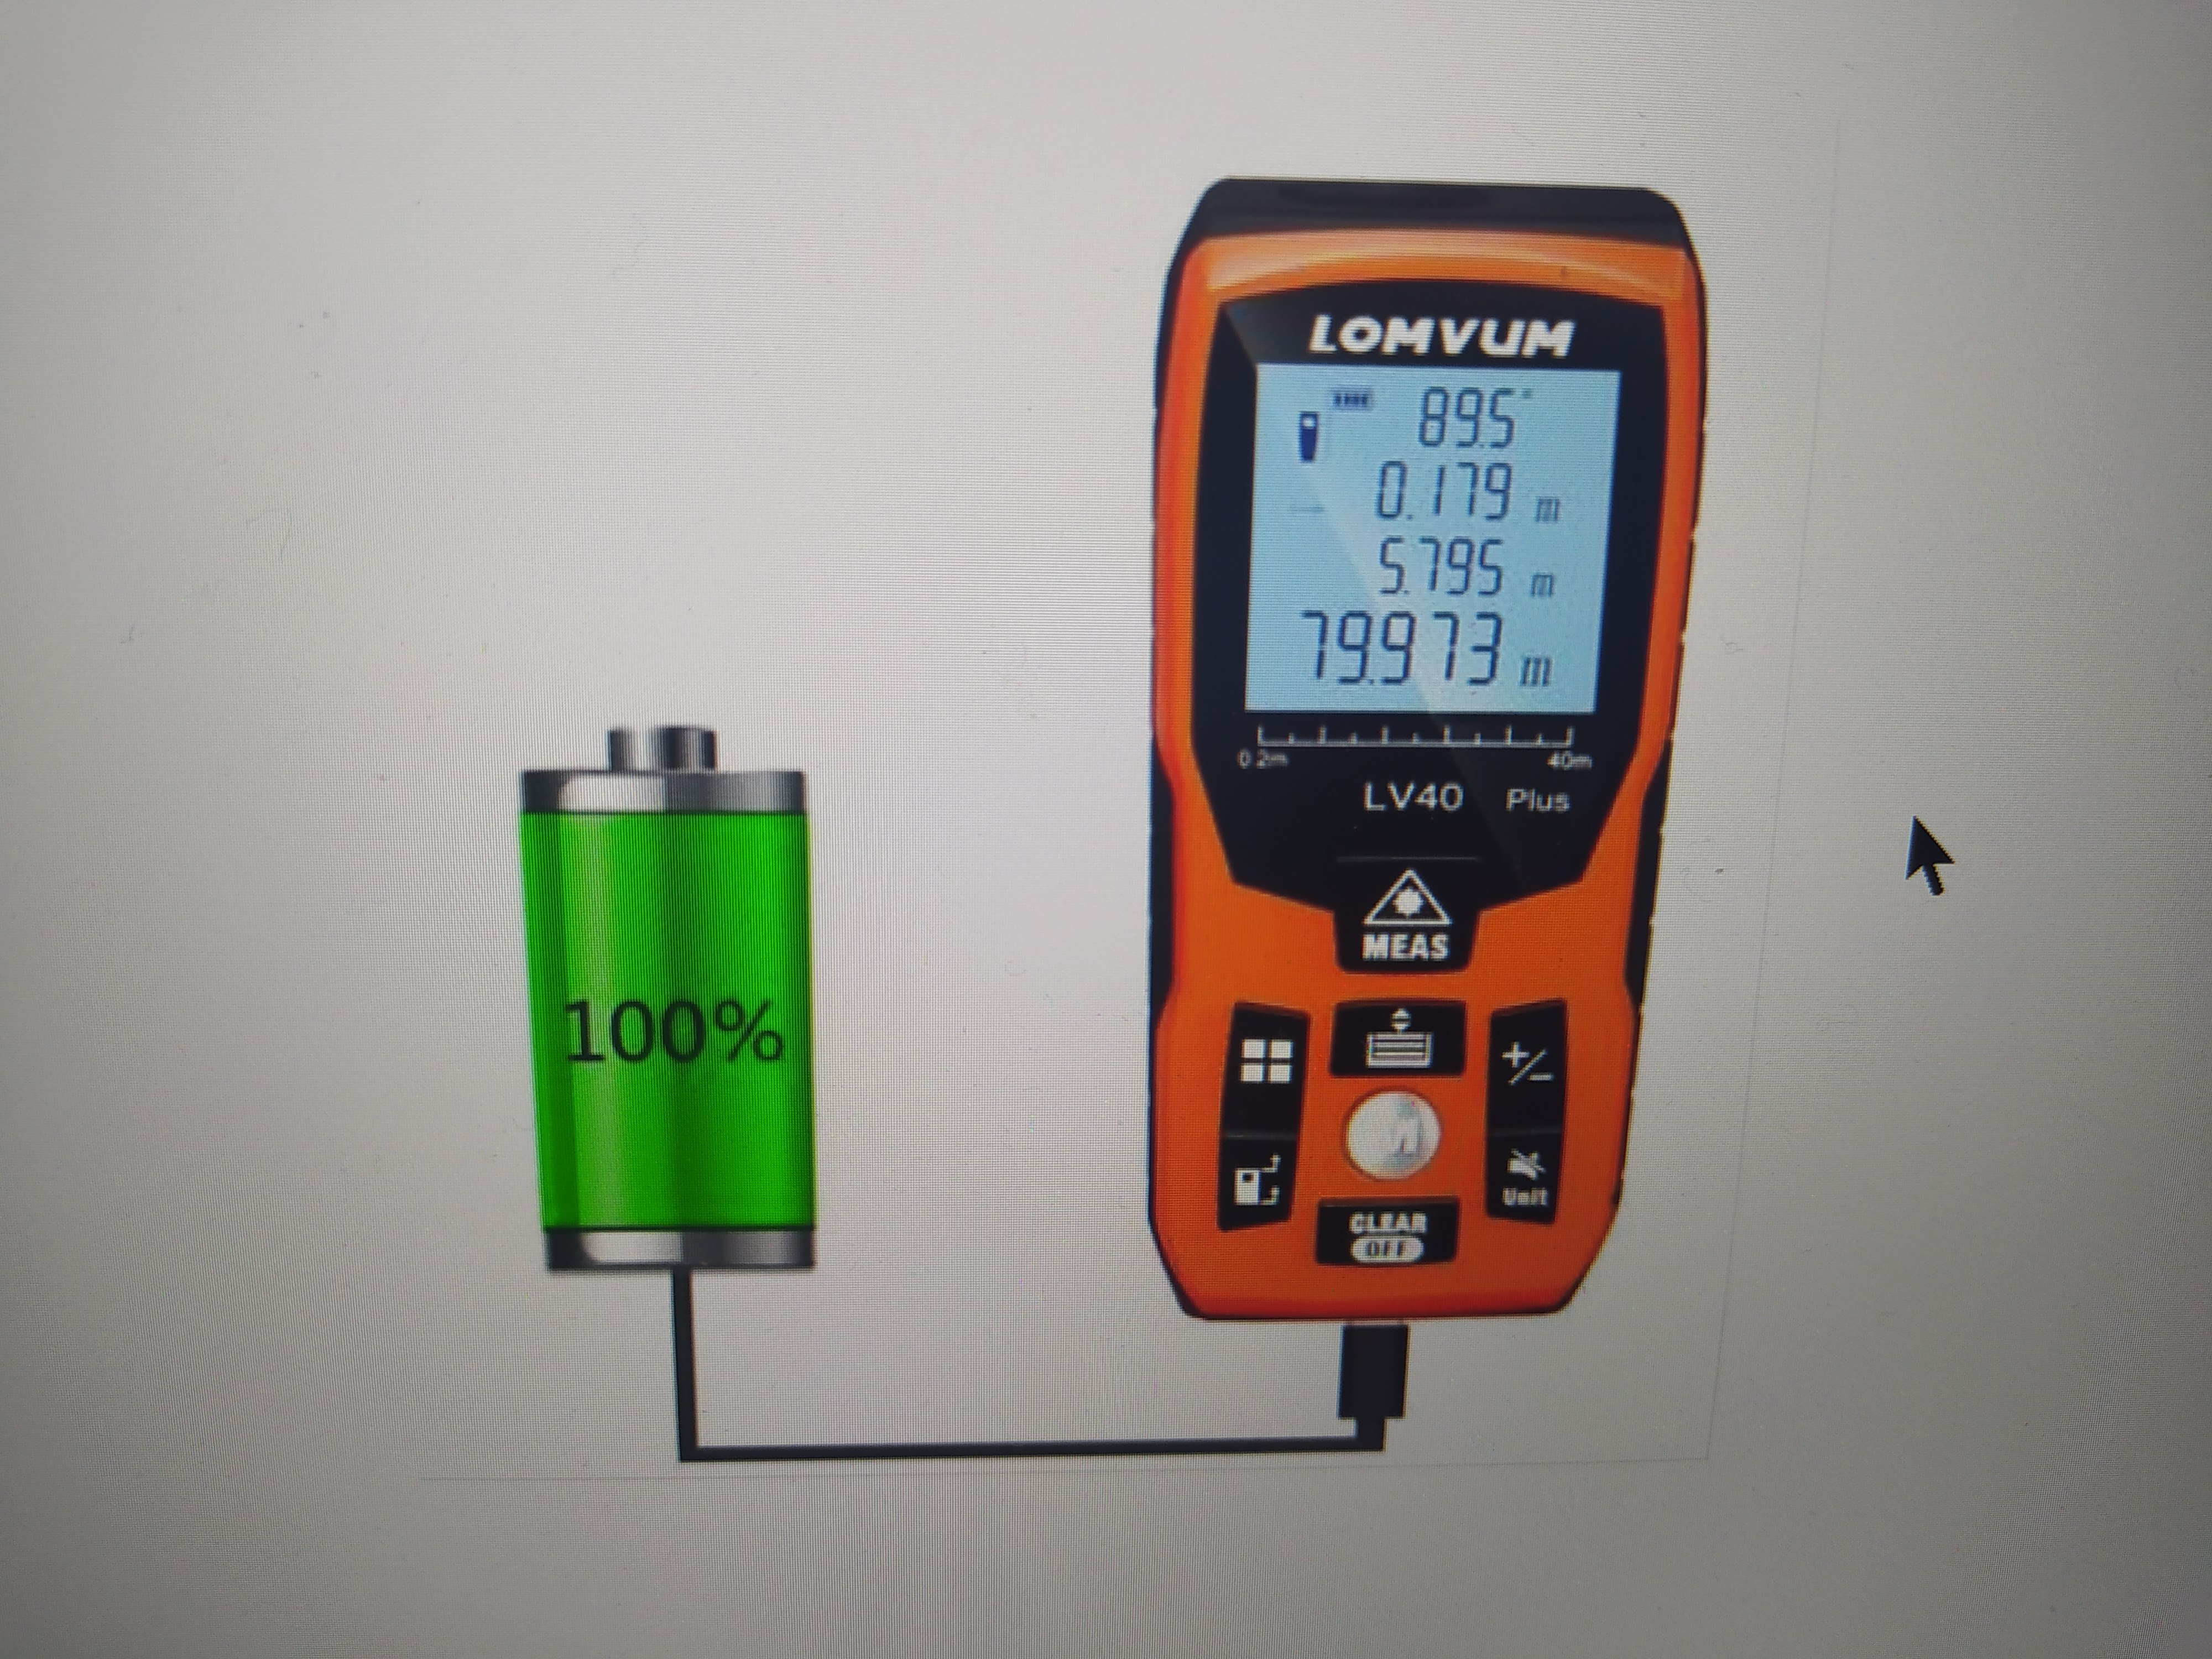.: (1400, 460, 1423, 525), (1366, 613, 1379, 692), (1399, 535, 1414, 598), (1477, 392, 1486, 453)
0: (651, 990, 712, 1080), (606, 992, 658, 1072), (1369, 450, 1407, 526), (1439, 779, 1468, 814), (1237, 744, 1252, 774), (1557, 749, 1576, 770)
1: (536, 988, 611, 1073), (1430, 460, 1449, 521), (1252, 748, 1271, 774)
3: (1463, 608, 1510, 687)
4: (1418, 781, 1439, 812), (1541, 748, 1561, 774)
5: (1371, 525, 1407, 599), (1484, 385, 1519, 455), (1477, 535, 1510, 603)
7: (1296, 598, 1332, 697), (1428, 608, 1465, 692), (1416, 533, 1446, 601), (1453, 458, 1479, 523)
8: (1409, 383, 1454, 453)
9: (1374, 612, 1421, 690), (1442, 383, 1486, 455), (1334, 606, 1372, 687), (1482, 458, 1517, 525), (1446, 535, 1477, 598)
